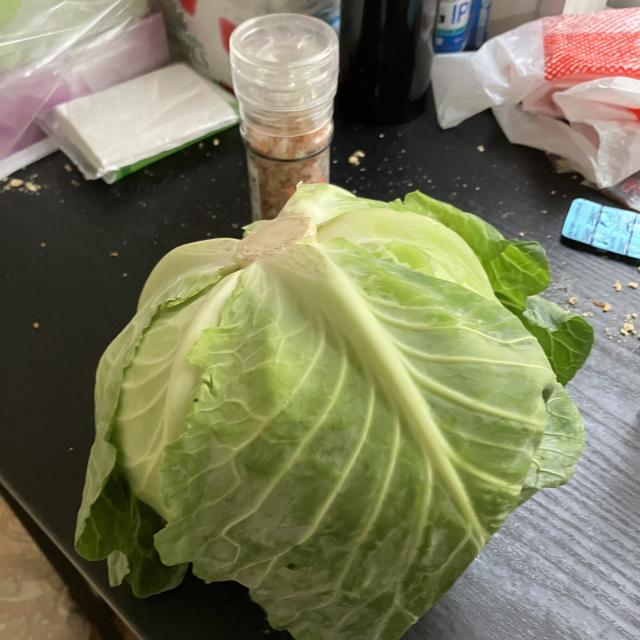cabbage: (72, 178, 597, 640)
